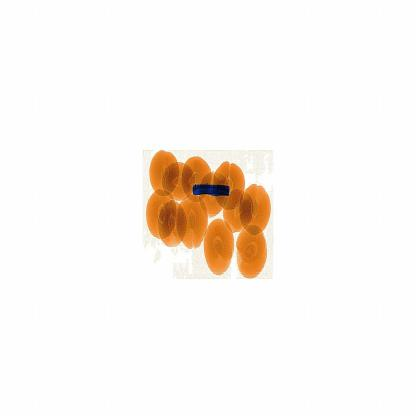knife: (178, 177, 236, 208)
